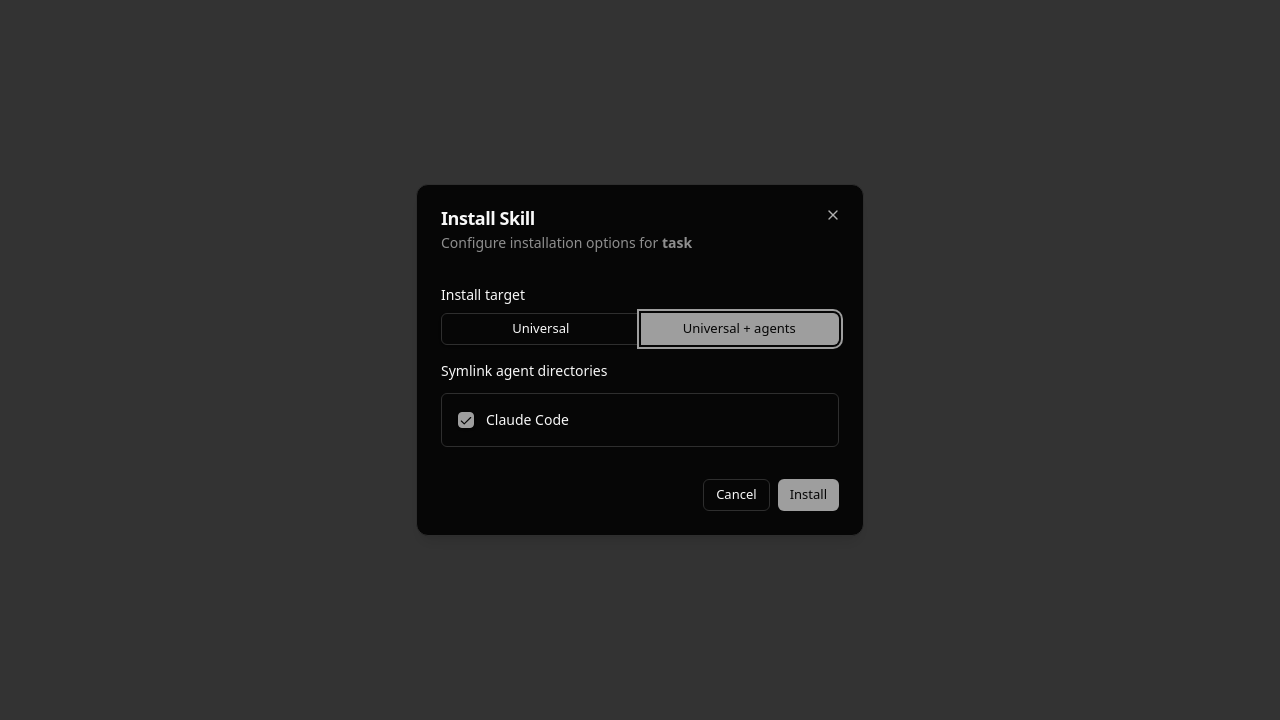
Test: InstallModal target selection › requires at least one symlink agent when Universal plus agents is selected
Expected: the dialog "Install Skill" is shown, [416,184,864,536]
Click the checkbox named "Claude Code" at (466, 420), box [458,412,474,428]
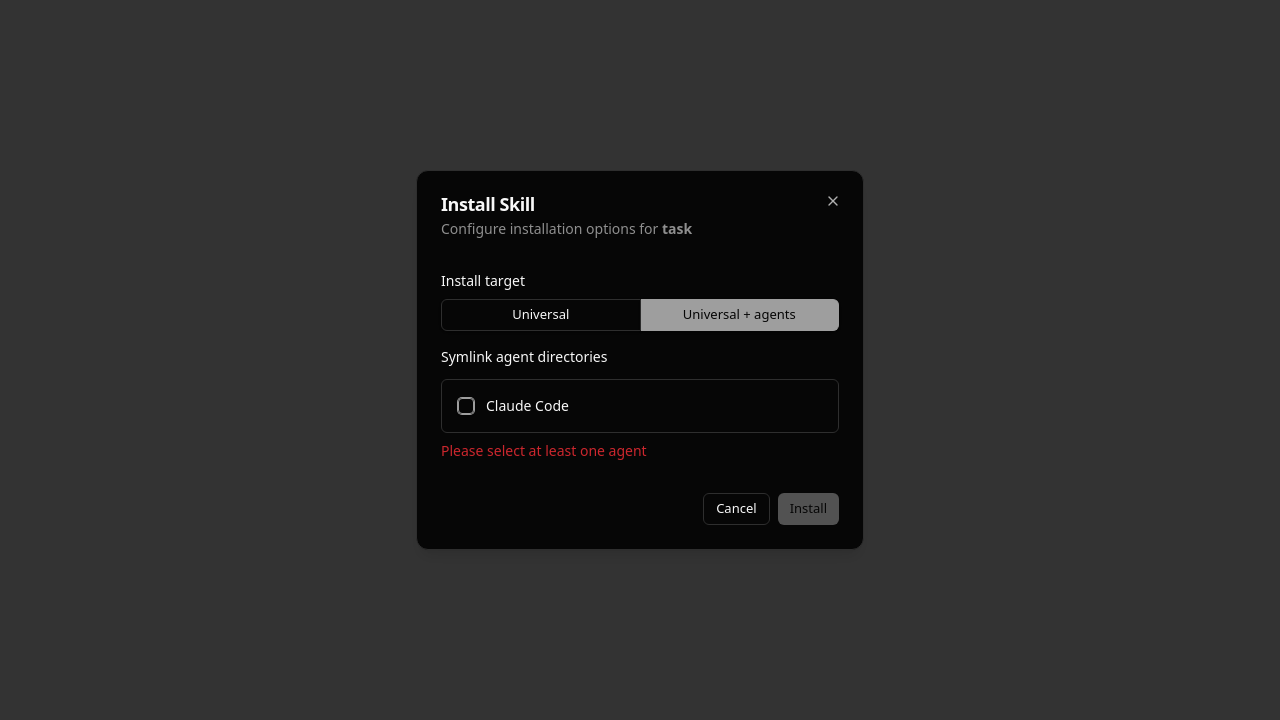
Expected: the button "Install" is disabled, [778,493,839,525]
Expected: the text "Please select at least one agent" is shown, [441,441,647,460]
